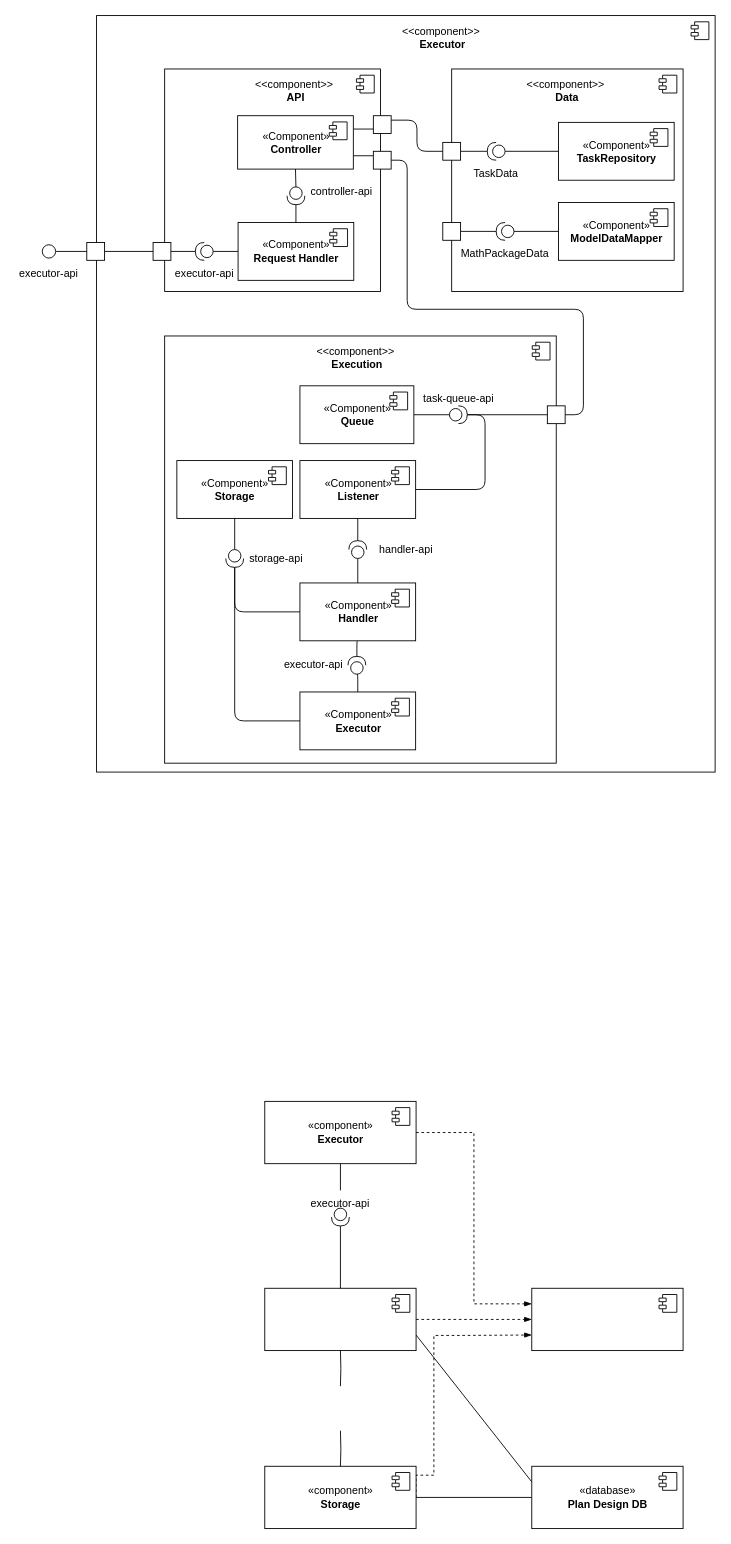
Some shapes in this 731 by 1544 pixel diagram are drawn without their labels. The shapes that lost their labels are listed below. From the top down, each one's centre as x and y in pixels, then its label:
At point 340,1319: "«component» Orchestrator".
At point 607,1319: "«model» Plan Design Model".
